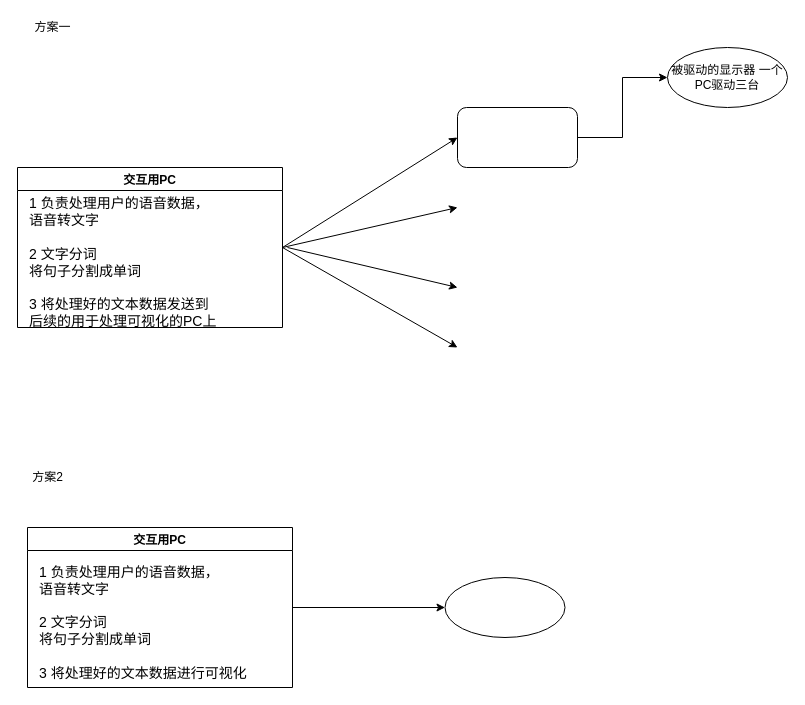
This 805x705 diagram has some shape labels left out. Here are the shapes that lost their labels. From the top down, the centre of each, then its label:
At point (517, 137): "可视化用PC 负责将收到的数据进行可视化（可视化部分HAROLD可以完成）".
At point (504, 607): "被驱动的显示器 没有驱动超过三台 不知道怎么搞".
